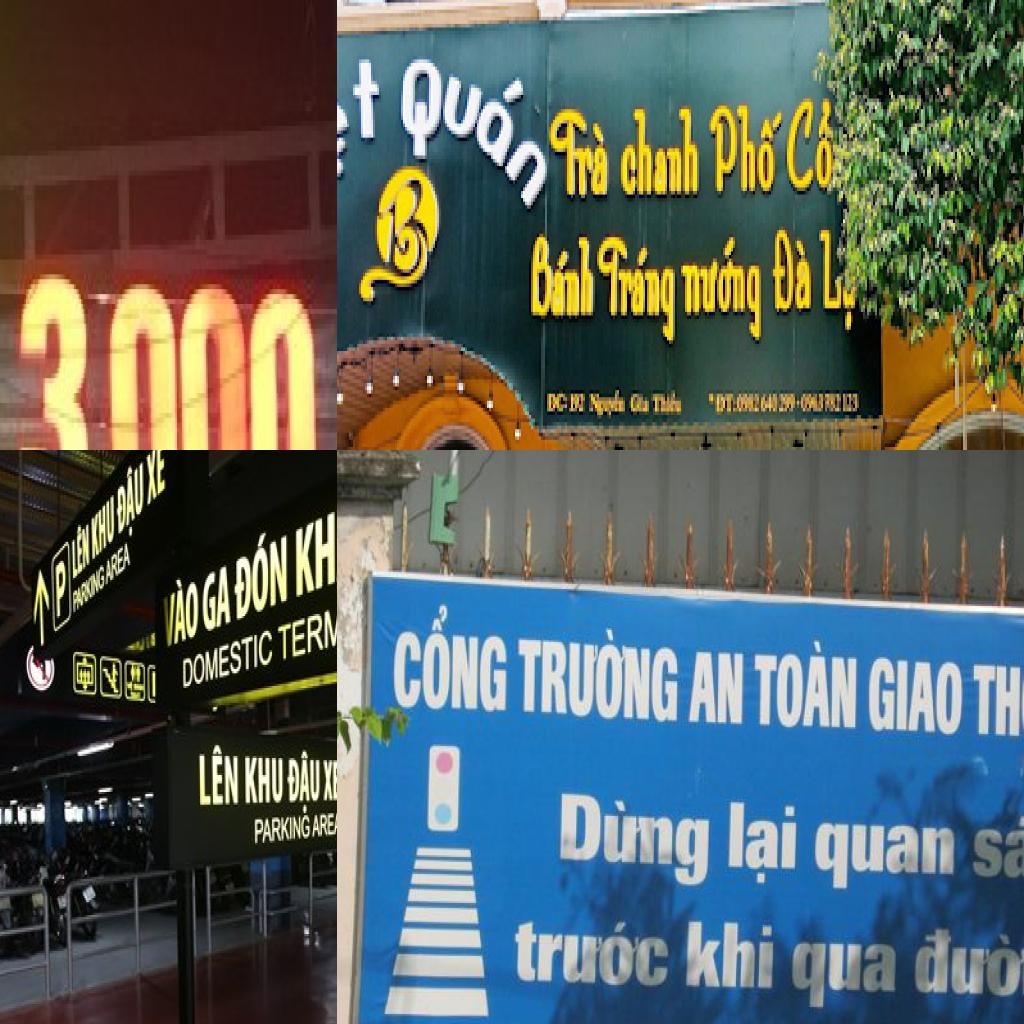text: (403, 38, 555, 220), (550, 782, 713, 896), (514, 616, 681, 727), (507, 906, 674, 997), (393, 594, 513, 720), (812, 807, 962, 898), (909, 918, 1024, 1024), (750, 637, 863, 734), (787, 929, 905, 1019), (593, 230, 679, 351), (679, 234, 763, 351), (868, 645, 968, 741), (684, 903, 784, 997), (615, 102, 703, 202), (721, 789, 805, 889), (337, 41, 385, 212), (709, 98, 787, 202), (549, 102, 613, 209), (527, 226, 597, 322), (180, 624, 274, 694), (229, 522, 290, 626), (293, 459, 337, 599), (785, 92, 841, 198), (686, 638, 747, 730), (276, 580, 337, 667), (970, 652, 1024, 746), (769, 223, 815, 323), (972, 809, 1024, 896), (195, 743, 242, 811), (160, 571, 200, 650), (116, 451, 144, 548), (286, 750, 323, 818), (819, 223, 845, 319), (201, 563, 235, 635), (242, 754, 286, 805), (252, 813, 312, 847), (90, 493, 116, 565), (71, 563, 105, 618), (69, 514, 92, 584), (737, 390, 797, 415), (143, 450, 166, 512), (589, 387, 627, 422), (105, 542, 133, 586), (651, 390, 685, 422), (52, 554, 68, 622), (310, 811, 337, 843), (321, 758, 337, 804), (545, 390, 569, 419), (629, 390, 651, 419), (715, 390, 737, 419), (569, 390, 587, 419)
